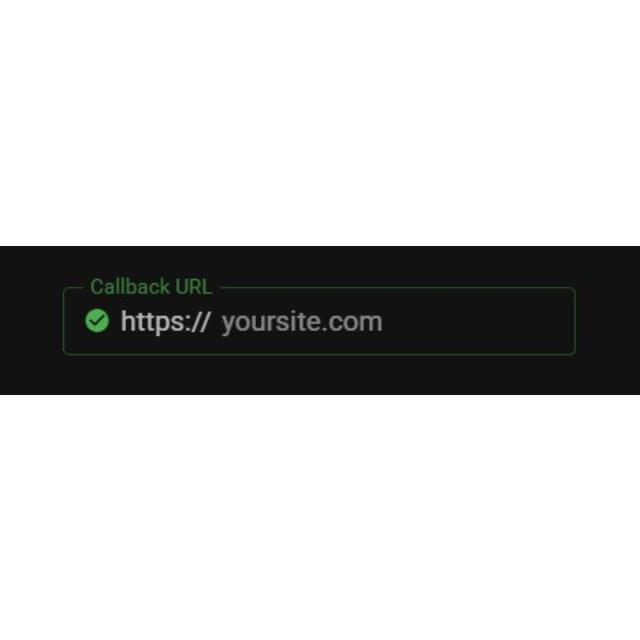VTextField: (60, 277, 578, 357)
